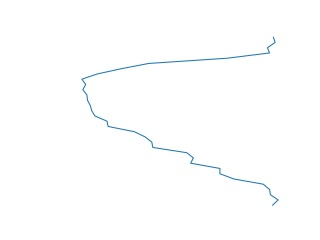mouthBar: (76, 37, 283, 208)
